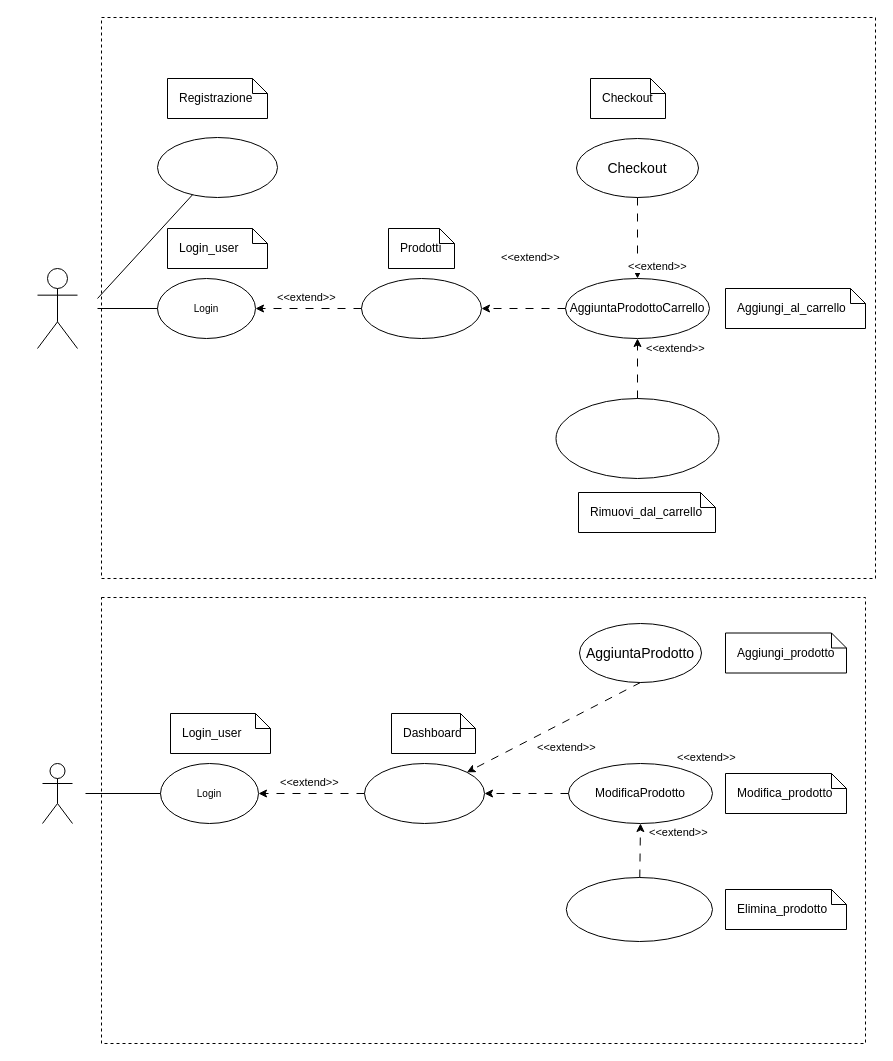
This 893x1061 diagram has some shape labels left out. The centre of each missing label's shape, as x and y in pixels:
"Amministratore" belongs at (x=57, y=793).
"Cliente" belongs at (x=57, y=308).
"RegistrazioneCliente" belongs at (x=217, y=167).
"RicercaProdotto" belongs at (x=421, y=308).
"RimozioneProdotto" belongs at (x=638, y=909).
"RimozioneProdottoCarrello" belongs at (x=637, y=438).
"VisualizzaDashboard" belongs at (x=424, y=793).
